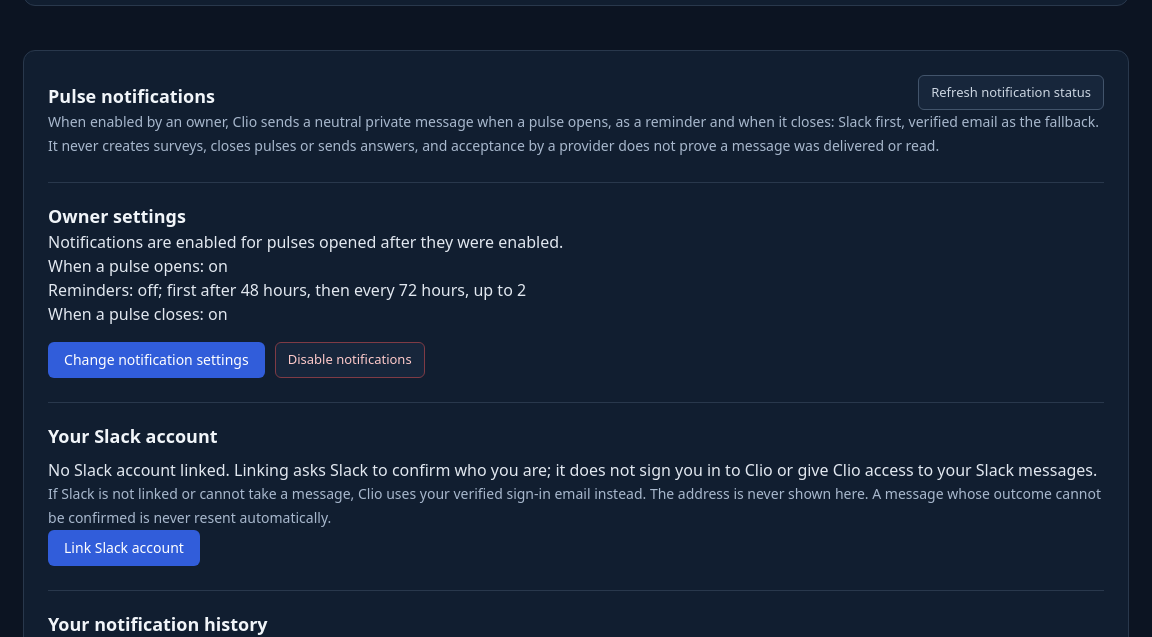
owner setup wizard › keeps an enabled workspace revision-checked and disables only after confirmation
(page scrolled)
Expected: the heading "Pulse notifications" is shown, x1=48 y1=83 x2=215 y2=110
Expected: the text "Notifications are enabled for pulses opened after" is shown, x1=48 y1=231 x2=563 y2=253
Click the button "Disable notifications". click: (350, 360)
box: x1=275 y1=342 x2=425 y2=378
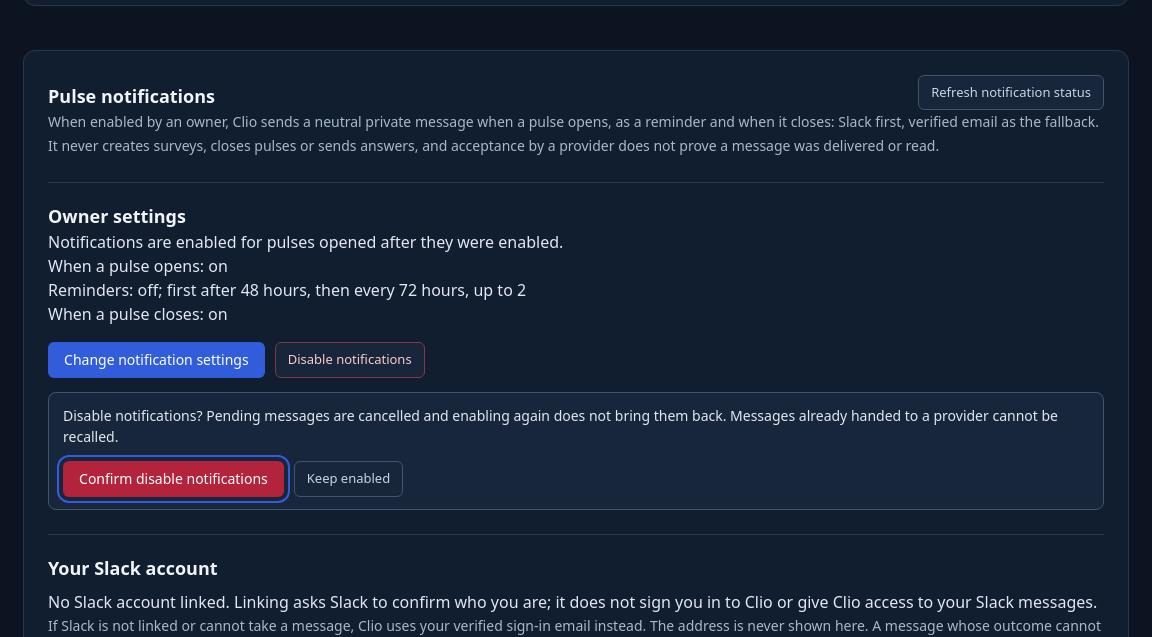
Click the button "Confirm disable notifications". click: (173, 479)
box: x1=63 y1=461 x2=284 y2=497
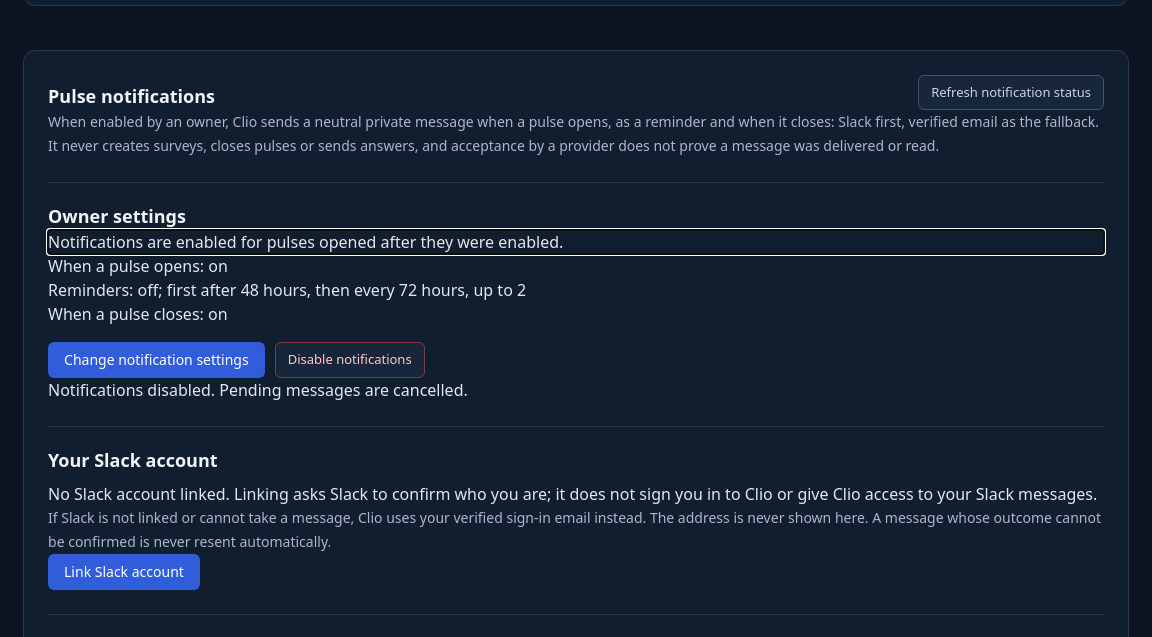
Now the text "Notifications disabled. Pending messages are cancelled." is shown, box x1=48 y1=379 x2=468 y2=401
